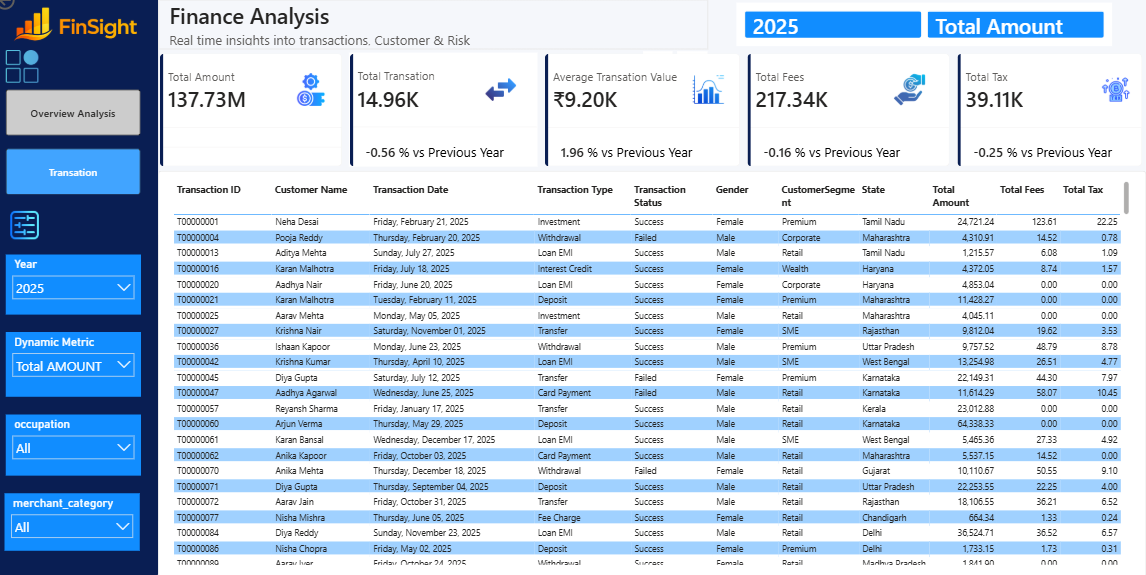

This screenshot's page, from the dashboard's own definition file:
{"tool":"powerbi","page":{"name":"Transation","canvas":[1800,950],"ordinal":1},"visuals":[{"type":"shape","box":[0,12.2,1800.4,927.5],"z":0},{"type":"shape","box":[4.1,6.1,253.2,905.3],"z":1000},{"type":"image","box":[19.3,19.3,223.8,77.2],"z":2000},{"type":"cardVisual","fields":{"Data":["finance_transactions (1).Dashboard Title"]},"box":[257.2,20.3,848.6,77],"z":3000},{"type":"cardVisual","fields":{"Data":["finance_transactions (1).Total AMOUNT"]},"box":[253.2,97.2,293.7,186.3],"z":4000},{"type":"slicer","fields":{"Values":["Calender Table.Year"]},"box":[21.2,413,208.4,92.6],"z":5000},{"type":"cardVisual","fields":{"Data":["finance_transactions (1).Total Transation"]},"box":[546.8,97.2,301.8,186.3],"z":6000},{"type":"cardVisual","fields":{"Data":["finance_transactions (1).Average Transation Value"]},"box":[846.5,97.2,313.9,186.3],"z":7000},{"type":"cardVisual","fields":{"Data":["finance_transactions (1).Total Fees"]},"box":[1160.4,97.2,324,186.3],"z":8000},{"type":"cardVisual","fields":{"Data":["finance_transactions (1).Total Tax"]},"box":[1484.5,97.2,297.7,186.3],"z":9000},{"type":"slicer","fields":{"Values":["customers.occupation"]},"box":[21.2,660,208.4,94.6],"z":10000},{"type":"slicer","fields":{"Values":["finance_transactions (1).merchant_category"]},"box":[19.3,781.5,208.4,88.8],"z":11000},{"type":"image","box":[467.8,133.7,50.6,50.6],"z":12000},{"type":"image","box":[760.3,133.1,50.2,50.2],"z":13000},{"type":"image","box":[1391.3,133.1,50.2,50.2],"z":14000},{"type":"image","box":[1080.6,133.1,50.2,50.2],"z":15000},{"type":"image","box":[1709.7,133.1,50.2,50.2],"z":16000},{"type":"slicer","fields":{"Values":["Dynamic Metric.Dynamic Metric"]},"box":[21.2,532.6,208.4,100.3],"z":17000},{"type":"shape","box":[257.2,283.5,1525,627.8],"z":18000},{"type":"cardVisual","fields":{"Data":["finance_transactions (1).Selected Year","finance_transactions (1).Selected Dyanamic Measure"]},"box":[1144.1,19.8,590.9,77.3],"z":19000},{"type":"actionButton","box":[0,0,100,40],"z":20000},{"type":"tableEx","fields":{"Values":["finance_transactions (1).transaction_id","customers.customer_name","finance_transactions (1).transaction_date","finance_transactions (1).transaction_type","finance_transactions (1).transaction_status","customers.gender","customers.customer_segment","customers.state","finance_transactions (1).Total AMOUNT","finance_transactions (1).Total Fees","finance_transactions (1).Total Tax"]},"box":[273.4,295.7,1486.5,601.5],"z":21000},{"type":"pageNavigator","box":[21.2,158.2,208.4,162.1],"z":22000},{"type":"image","box":[25.1,341.6,50.2,52.1],"z":22001},{"type":"image","box":[21.2,96.5,50.2,52.1],"z":22002}]}

Visuals, with their boxes on the page's 1800x950 design canvas (x1, y1, x2, y2). These are canvas units, not pixel positions in the 1146x575 screenshot, which may show the page scaled, cropped or inside an application window:
shape: crop(0, 12, 1800, 940)
shape: crop(4, 6, 257, 911)
image: crop(19, 19, 243, 96)
cardVisual - finance_transactions (1).Dashboard Title: crop(257, 20, 1106, 97)
cardVisual - finance_transactions (1).Total AMOUNT: crop(253, 97, 547, 284)
slicer - Calender Table.Year: crop(21, 413, 230, 506)
cardVisual - finance_transactions (1).Total Transation: crop(547, 97, 849, 284)
cardVisual - finance_transactions (1).Average Transation Value: crop(846, 97, 1160, 284)
cardVisual - finance_transactions (1).Total Fees: crop(1160, 97, 1484, 284)
cardVisual - finance_transactions (1).Total Tax: crop(1484, 97, 1782, 284)
slicer - customers.occupation: crop(21, 660, 230, 755)
slicer - finance_transactions (1).merchant_category: crop(19, 782, 228, 870)
image: crop(468, 134, 518, 184)
image: crop(760, 133, 810, 183)
image: crop(1391, 133, 1442, 183)
image: crop(1081, 133, 1131, 183)
image: crop(1710, 133, 1760, 183)
slicer - Dynamic Metric.Dynamic Metric: crop(21, 533, 230, 633)
shape: crop(257, 284, 1782, 911)
cardVisual - finance_transactions (1).Selected Year x finance_transactions (1).Selected Dyanamic Measure: crop(1144, 20, 1735, 97)
actionButton: crop(0, 0, 100, 40)
tableEx - finance_transactions (1).transaction_id x customers.customer_name: crop(273, 296, 1760, 897)
pageNavigator: crop(21, 158, 230, 320)
image: crop(25, 342, 75, 394)
image: crop(21, 96, 71, 149)
